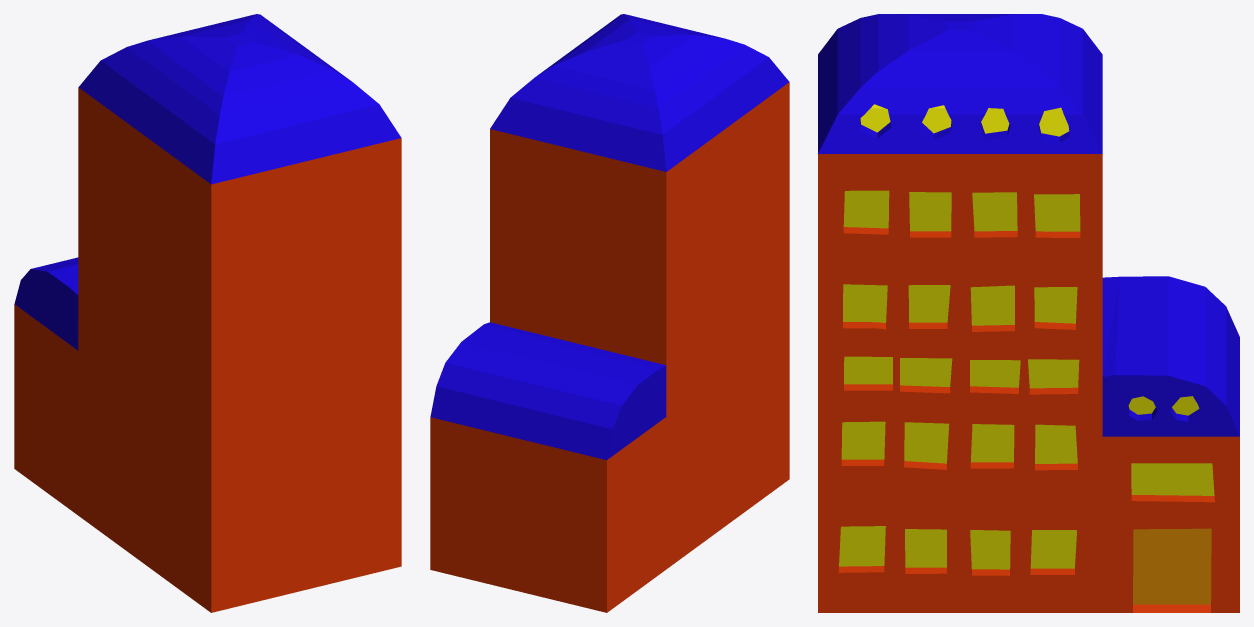
Rendered from Building6.fbx.
The picture shows the model from 3 angles, left to right: view 1: azimuth 30°, elevation 25°; view 2: azimuth 150°, elevation 25°; view 3: azimuth 270°, elevation 25°; orthographic projection. The views are drawn at different scales.
Parts seen in each view (by area): view 1: Plane; view 2: Plane; view 3: Plane.
Boxes of the visible parts, x1,y1,x2,y2 form: Plane: (14, 14, 401, 612); Plane: (430, 14, 789, 612); Plane: (818, 14, 1239, 612).
Size of the model in its own units: 68.8 by 173 by 123.
